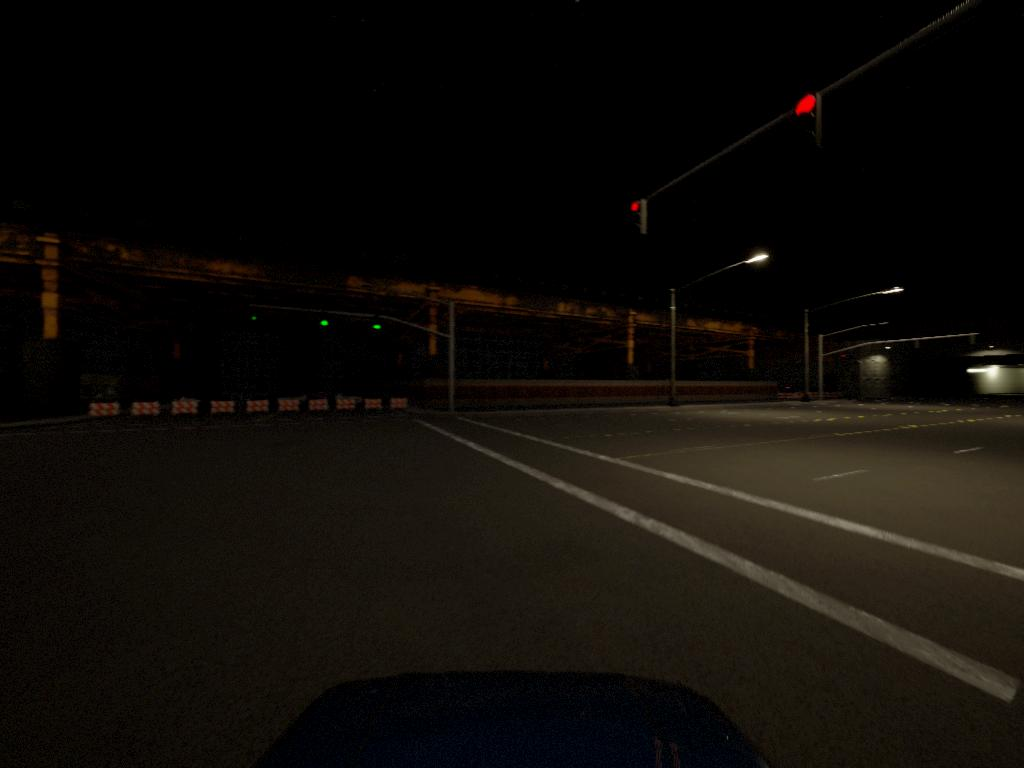traffic_light: (789, 95, 819, 150), (631, 199, 649, 235), (249, 307, 261, 327), (373, 321, 386, 336), (320, 319, 332, 330)
